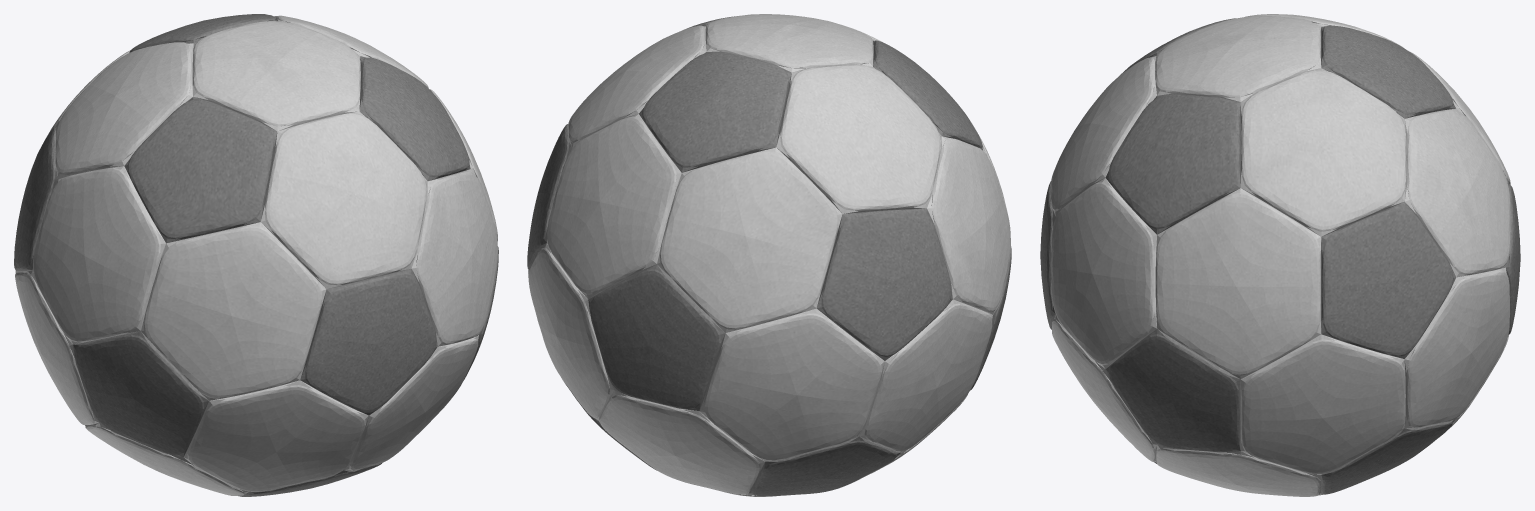
Rendered from Football.obj.
3 views of the same model, side by side, from view 1: azimuth 30°, elevation 25°; view 2: azimuth 150°, elevation 25°; view 3: azimuth 270°, elevation 25° (orthographic).
Bounding box in the file's own units: 129 × 128 × 128.
1 material, 1 textured.
